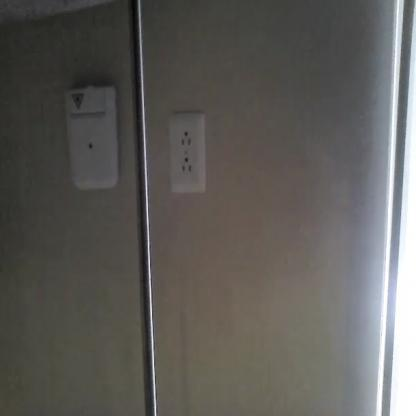OUTLET: (168, 113, 206, 194)
